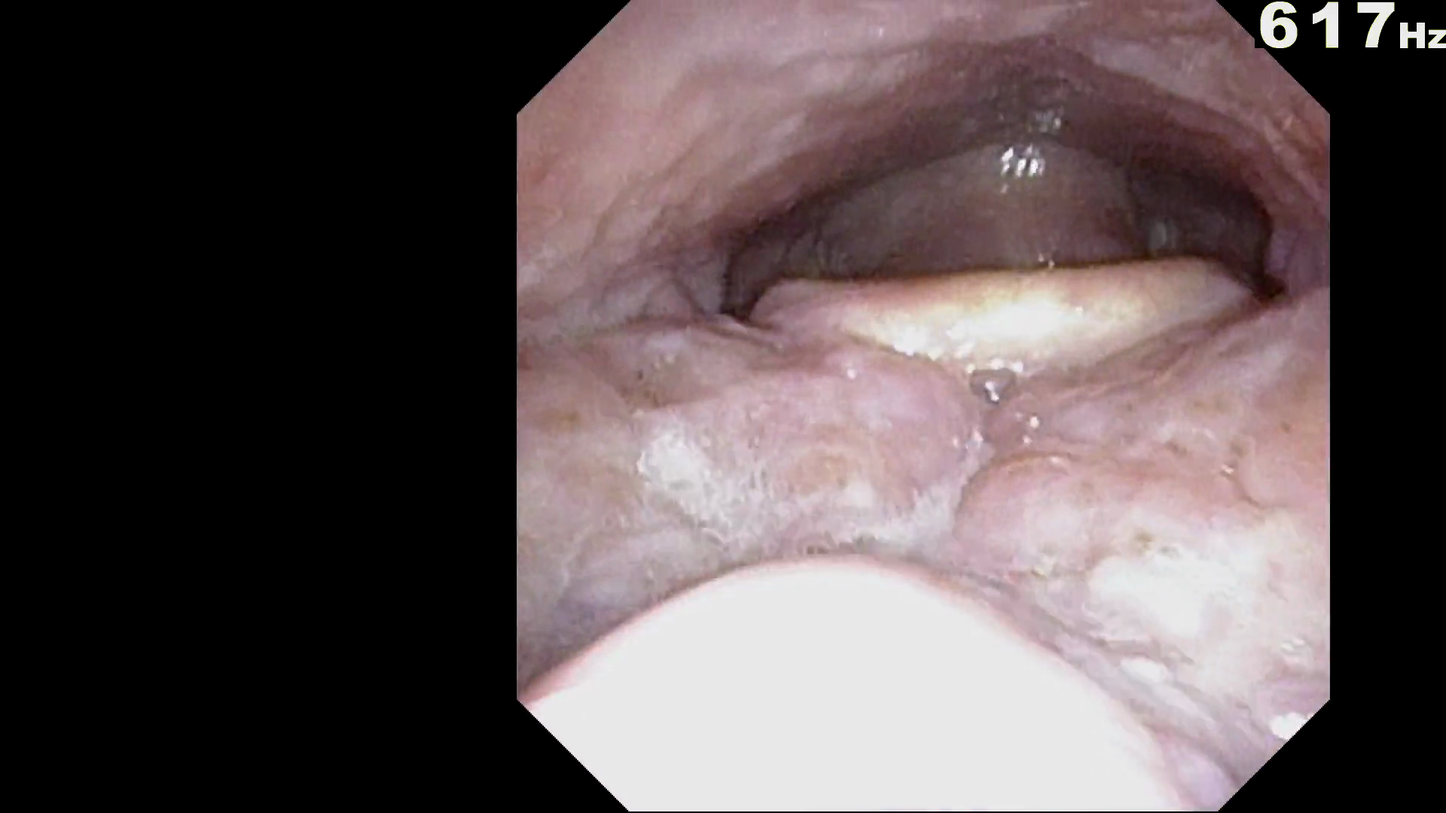epiglottis: (783, 252, 1232, 372)
